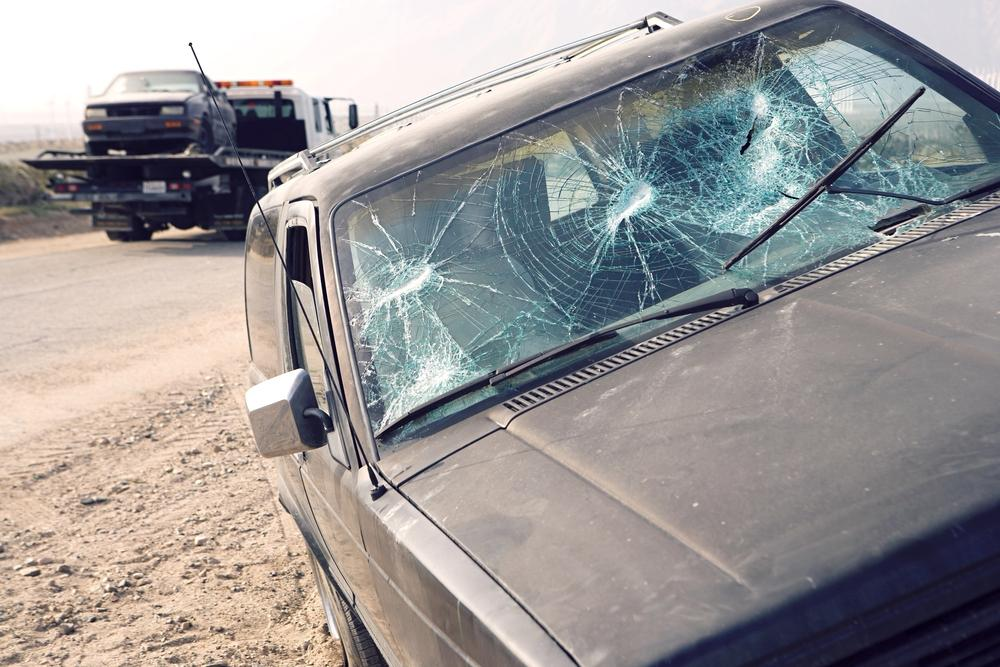glass shatter: (333, 8, 1000, 446)
